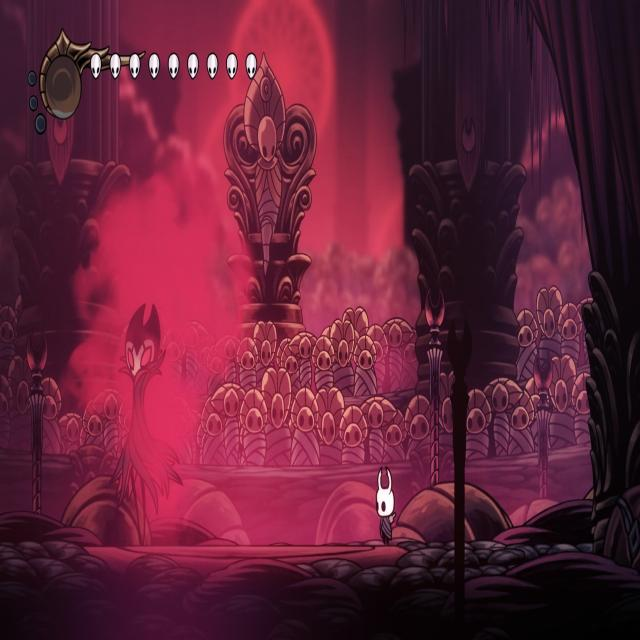Grimm: (113, 290, 189, 546)
Player: (374, 462, 400, 549)
